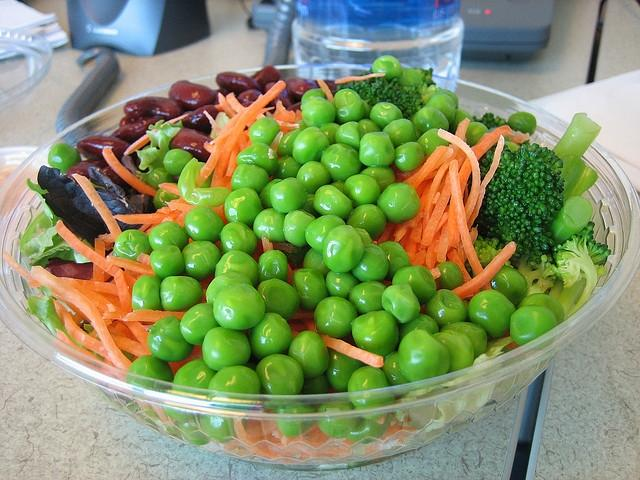broccoli: (472, 143, 565, 264), (550, 221, 598, 320), (368, 77, 426, 121), (552, 112, 601, 158), (510, 255, 563, 296), (464, 235, 514, 278), (482, 112, 508, 130)
carrot: (29, 266, 132, 372), (210, 80, 287, 188), (420, 118, 470, 248), (54, 219, 138, 289), (448, 159, 492, 290), (38, 292, 114, 366), (421, 148, 466, 246), (438, 128, 480, 223), (451, 241, 516, 300), (467, 134, 505, 232), (201, 109, 247, 184), (72, 173, 122, 242), (102, 146, 158, 196), (124, 114, 188, 156), (393, 178, 433, 243), (210, 106, 274, 145), (62, 276, 121, 312), (233, 418, 281, 460), (402, 146, 447, 190), (320, 336, 382, 366), (107, 256, 155, 277), (112, 210, 182, 224), (73, 278, 119, 297), (122, 309, 186, 322), (381, 421, 416, 444), (425, 228, 442, 270), (273, 101, 303, 124), (92, 237, 106, 282), (334, 73, 386, 85), (499, 330, 522, 350), (316, 78, 334, 103), (158, 182, 183, 199), (164, 200, 195, 213), (227, 93, 246, 114), (405, 228, 417, 260), (508, 131, 530, 148), (301, 436, 327, 448), (106, 324, 125, 338), (288, 323, 306, 333), (280, 444, 300, 453), (262, 236, 273, 252), (102, 312, 122, 320), (286, 456, 310, 461), (464, 182, 468, 206), (247, 139, 252, 148), (471, 145, 476, 150)
lettuce: (26, 285, 88, 351), (136, 120, 183, 185), (433, 382, 497, 425), (27, 178, 63, 226), (20, 210, 52, 253), (23, 226, 58, 260)
pea: (397, 328, 451, 382), (212, 282, 266, 330), (468, 289, 516, 338), (202, 326, 252, 372), (352, 310, 399, 358), (246, 312, 292, 360), (148, 316, 195, 362), (510, 306, 558, 350), (322, 224, 366, 272), (288, 330, 328, 380), (256, 354, 304, 395), (126, 354, 174, 394), (314, 296, 358, 339), (257, 278, 300, 321), (326, 346, 366, 392), (440, 321, 488, 359), (377, 182, 420, 224), (392, 265, 436, 306), (433, 330, 474, 374), (215, 250, 260, 290), (180, 303, 222, 345), (489, 265, 528, 310), (348, 366, 390, 407), (321, 142, 362, 183), (381, 282, 421, 324), (182, 240, 222, 282), (304, 214, 346, 254), (206, 271, 254, 305), (426, 288, 468, 326), (292, 268, 329, 310), (160, 276, 203, 312), (184, 206, 224, 244), (346, 204, 387, 241), (208, 366, 262, 394), (225, 188, 262, 228), (236, 142, 278, 176), (378, 241, 412, 282), (112, 229, 153, 263), (292, 126, 328, 164), (352, 244, 388, 282), (270, 177, 308, 213), (172, 358, 216, 389), (344, 173, 381, 209), (314, 185, 352, 220), (219, 222, 258, 256), (150, 244, 186, 280), (282, 209, 316, 247), (349, 280, 387, 314), (148, 221, 188, 253), (231, 163, 270, 195), (359, 132, 395, 166), (131, 276, 164, 311), (253, 208, 286, 243), (296, 161, 331, 194), (333, 89, 365, 125), (302, 96, 336, 128), (325, 270, 361, 300), (359, 166, 396, 194), (258, 250, 288, 284), (382, 118, 416, 148), (383, 351, 411, 386), (416, 128, 451, 156), (425, 94, 456, 125), (394, 142, 426, 172), (249, 116, 281, 146), (369, 102, 403, 130), (414, 106, 448, 134), (48, 144, 80, 172), (162, 149, 194, 176), (436, 261, 464, 291), (334, 122, 362, 152), (303, 248, 330, 278), (372, 55, 404, 80), (259, 178, 282, 210), (277, 128, 302, 157), (508, 112, 536, 137), (276, 155, 304, 179), (147, 168, 174, 191), (465, 122, 490, 146), (358, 119, 381, 141), (320, 122, 340, 145), (400, 69, 421, 86), (329, 180, 345, 194)
